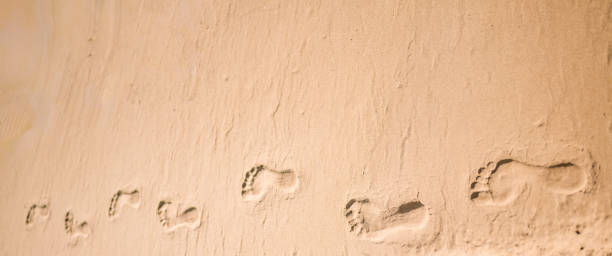human_footprint: (469, 149, 593, 205), (344, 197, 436, 242), (241, 165, 297, 200), (156, 200, 201, 232), (108, 188, 140, 219), (64, 211, 90, 245), (25, 201, 49, 228)
